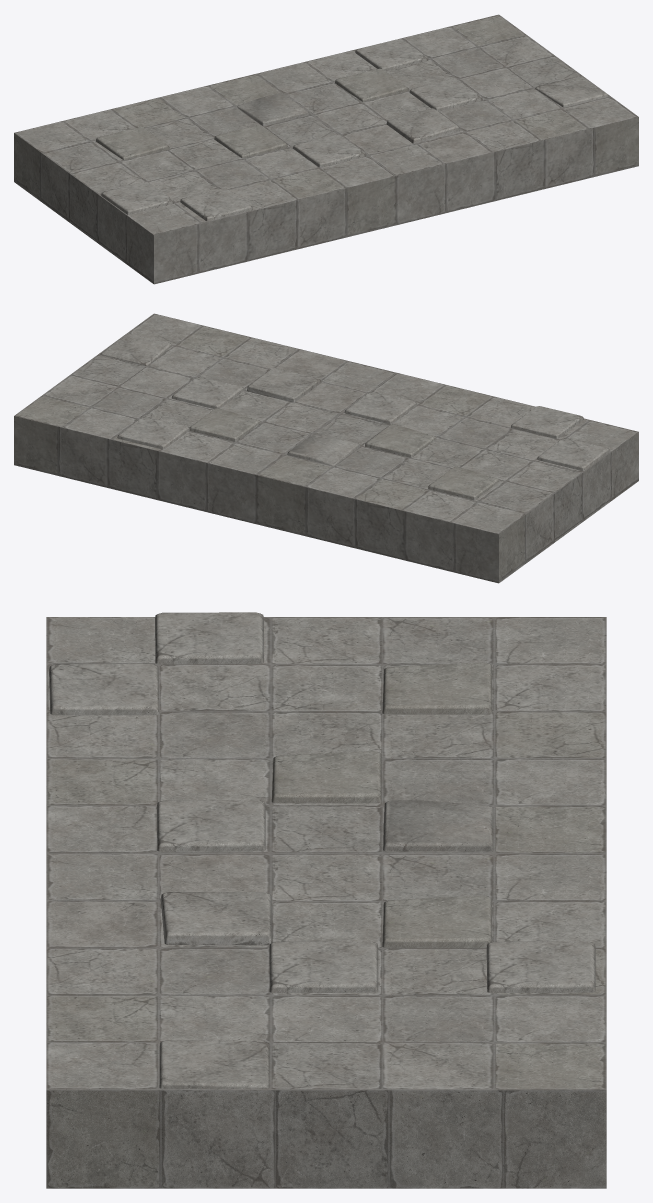
The model's file is SM_Exterior_Floor_2.fbx.
3 views of the same model, one above another, from view 1: azimuth 30°, elevation 25°; view 2: azimuth 150°, elevation 25°; view 3: azimuth 270°, elevation 25° (orthographic). The views are drawn at different scales.
Parts seen in each view (by area): view 1: SM_Exterior_Floor_2_LOD0; view 2: SM_Exterior_Floor_2_LOD0; view 3: SM_Exterior_Floor_2_LOD0.
Part boxes in pixels (x1,y1,x2,y2): SM_Exterior_Floor_2_LOD0: (14, 14, 638, 284); SM_Exterior_Floor_2_LOD0: (14, 313, 638, 583); SM_Exterior_Floor_2_LOD0: (46, 612, 606, 1188).
Bounding box in the file's own units: 500 × 250 × 53.68.
